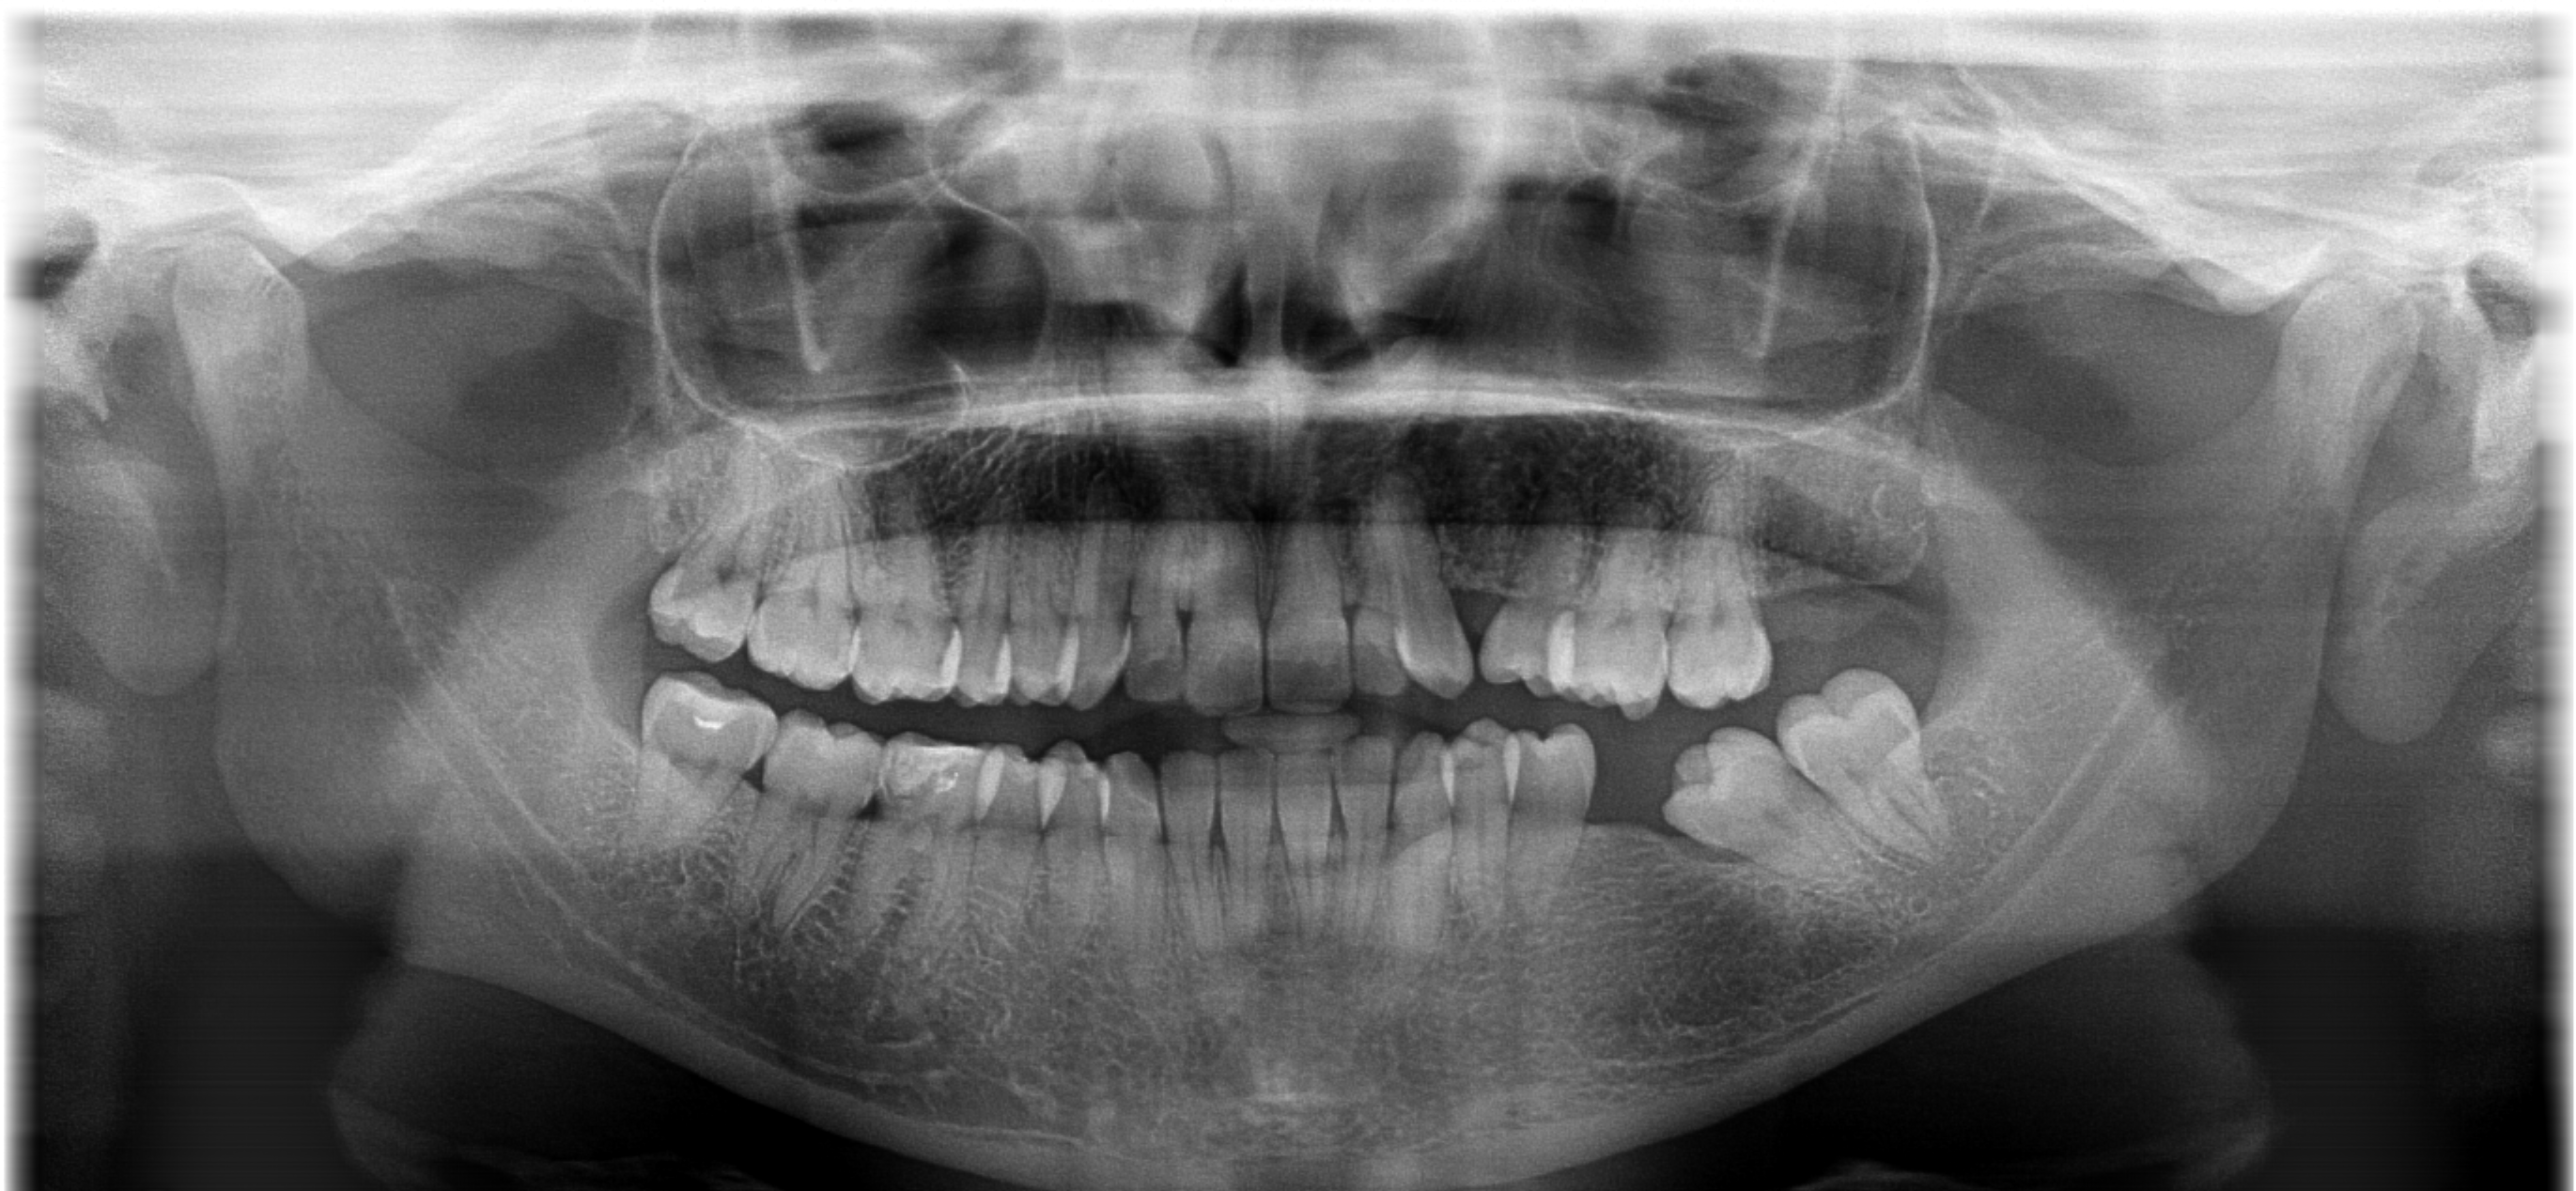apinamiento: (1390, 715, 1607, 820), (1342, 600, 1495, 708)
cordal: (1764, 649, 1999, 861), (611, 652, 793, 866), (613, 490, 780, 692)
zona_dentula: (1575, 728, 1705, 931)
